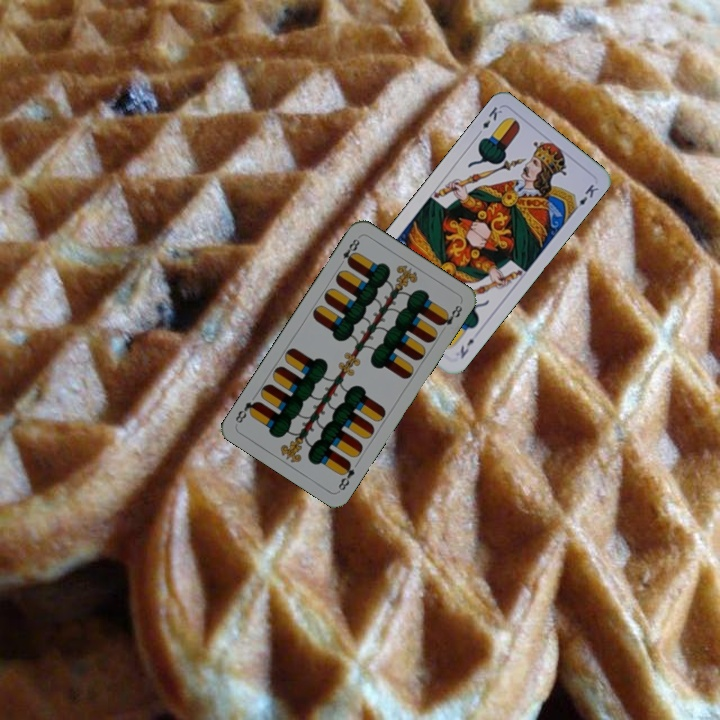E8: (335, 233, 362, 269), (334, 457, 357, 493)
EK: (473, 103, 505, 139), (456, 335, 477, 361)
